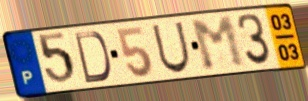3: (236, 12, 273, 67)
5: (35, 30, 78, 89), (114, 24, 154, 79)
D: (72, 30, 113, 85)
M: (188, 14, 249, 74)
U: (149, 20, 193, 76)
